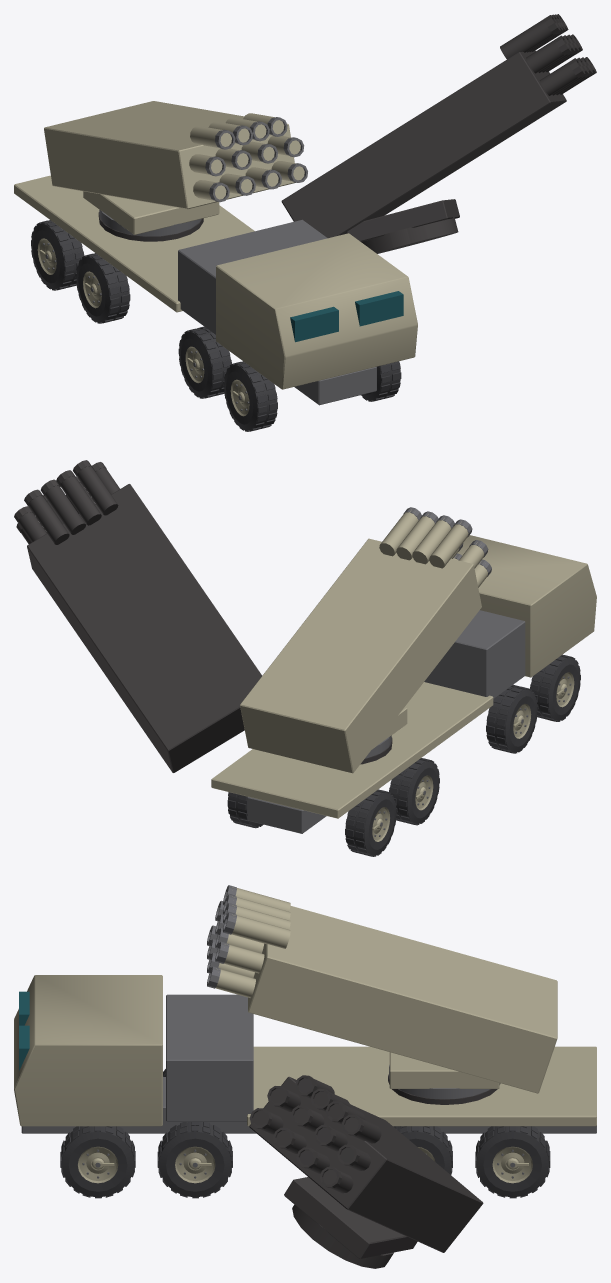
Rendered from mlrs__a_100_fatah_1.glb.
The picture shows the model from 3 angles, top to bottom: view 1: azimuth 30°, elevation 25°; view 2: azimuth 150°, elevation 25°; view 3: azimuth 270°, elevation 25°; orthographic projection. The views are drawn at different scales.
Parts seen in each view (by area): view 1: Hull_Mesh, Wreck, Gun_Mesh, Turret_Mesh, Wheel_L3_Mesh, Wheel_L1_Mesh, Wheel_L2_Mesh, Wheel_L0_Mesh, Wheel_R3_Mesh; view 2: Wreck, Gun_Mesh, Hull_Mesh, Wheel_L2_Mesh, Wheel_L0_Mesh, Wheel_L1_Mesh, Wheel_L3_Mesh, Wheel_R0_Mesh, Turret_Mesh; view 3: Hull_Mesh, Gun_Mesh, Wreck, Wheel_R2_Mesh, Wheel_R3_Mesh, Wheel_R0_Mesh, Turret_Mesh, Wheel_R1_Mesh.
Part boxes in pixels (x1,y1,x2,y2): Hull_Mesh: [14, 175, 417, 405]; Wreck: [47, 14, 596, 400]; Gun_Mesh: [44, 101, 307, 209]; Turret_Mesh: [83, 191, 219, 236]; Wheel_L3_Mesh: [224, 361, 277, 431]; Wheel_L1_Mesh: [76, 253, 130, 323]; Wheel_L2_Mesh: [178, 326, 231, 398]; Wheel_L0_Mesh: [31, 220, 84, 290]; Wheel_R3_Mesh: [361, 361, 401, 401]; Wreck: [14, 460, 554, 855]; Gun_Mesh: [240, 507, 491, 773]; Hull_Mesh: [211, 535, 596, 833]; Wheel_L2_Mesh: [486, 684, 537, 753]; Wheel_L0_Mesh: [345, 789, 396, 856]; Wheel_L1_Mesh: [389, 758, 439, 825]; Wheel_L3_Mesh: [530, 654, 580, 721]; Wheel_R0_Mesh: [227, 792, 263, 828]; Turret_Mesh: [365, 707, 407, 758]; Hull_Mesh: [14, 975, 596, 1133]; Gun_Mesh: [207, 885, 557, 1093]; Wreck: [249, 1074, 500, 1268]; Wheel_R2_Mesh: [157, 1122, 232, 1198]; Wheel_R3_Mesh: [60, 1126, 135, 1198]; Wheel_R0_Mesh: [475, 1126, 550, 1198]; Turret_Mesh: [389, 1052, 499, 1098]; Wheel_R1_Mesh: [394, 1126, 452, 1174].
Size of what is drawn, in the model's own units: 8.9 by 4.45 by 9.
